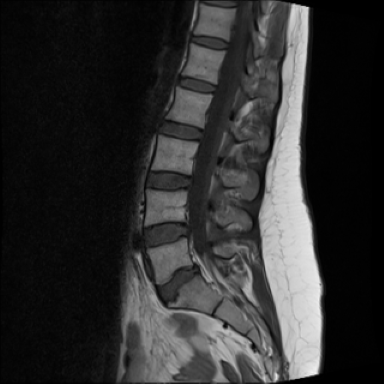Degenerative Disc Disease (DDD): (152, 260, 203, 310)
Normal IVD: (138, 220, 192, 252), (142, 165, 194, 193), (158, 117, 206, 145), (177, 76, 220, 96), (187, 34, 232, 52)
Spinal Stenosis (SS): (190, 261, 203, 280)
